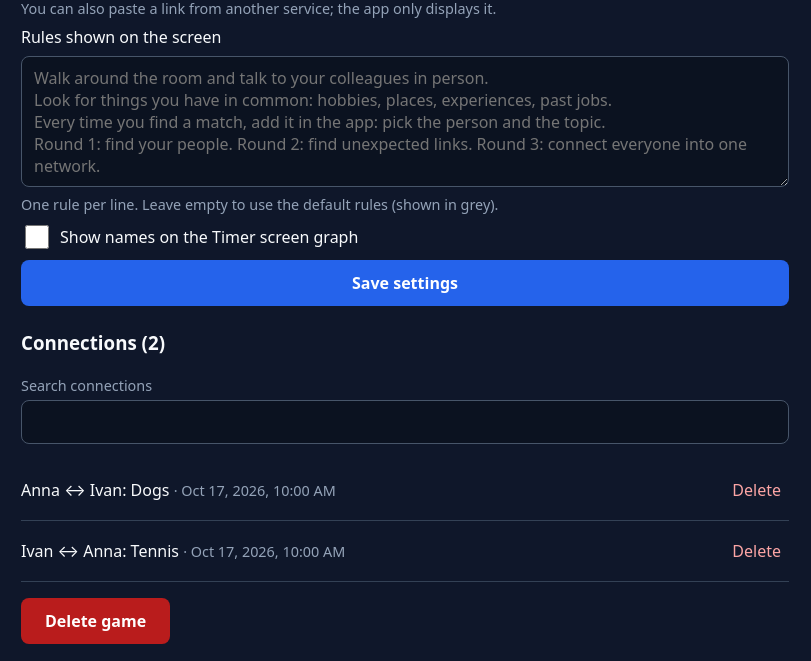
connections › lists connections and filters them
(page scrolled)
Expected: the heading "Connections (2)" is shown, [21,330,165,355]
Expected: the text "Anna ↔ Ivan: Dogs · Oct 17, 2026, 10:00 AM" is shown, [21,479,336,501]
Type "tennis" into the field labelled "Search connections" at coordinates (405, 422), box [21,400,789,444]
(page scrolled)
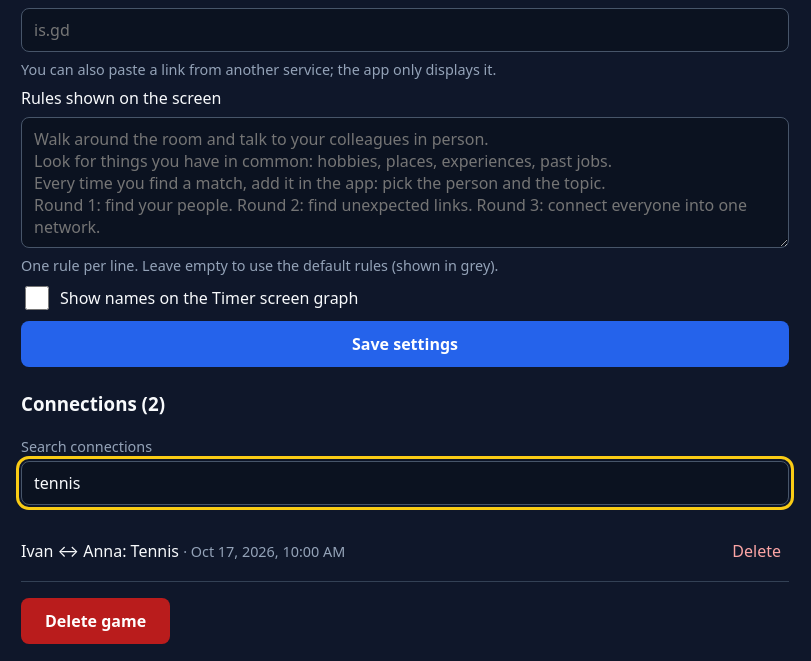
Expected: the text "Ivan ↔ Anna: Tennis · Oct 17, 2026, 10:00 AM" is shown, [21,540,345,562]
Expected: the text "Anna ↔ Ivan: Dogs" is gone
